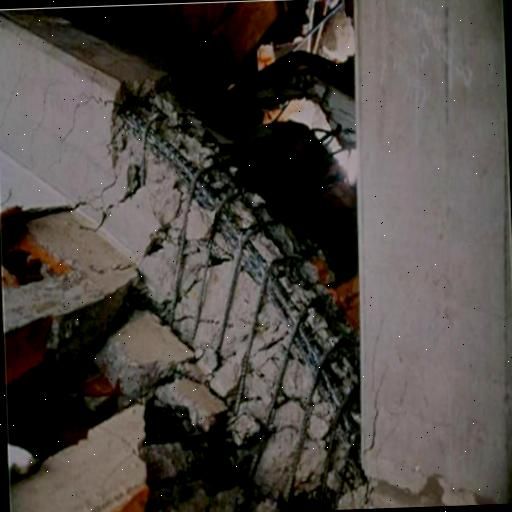spalling: (109, 81, 361, 496)
